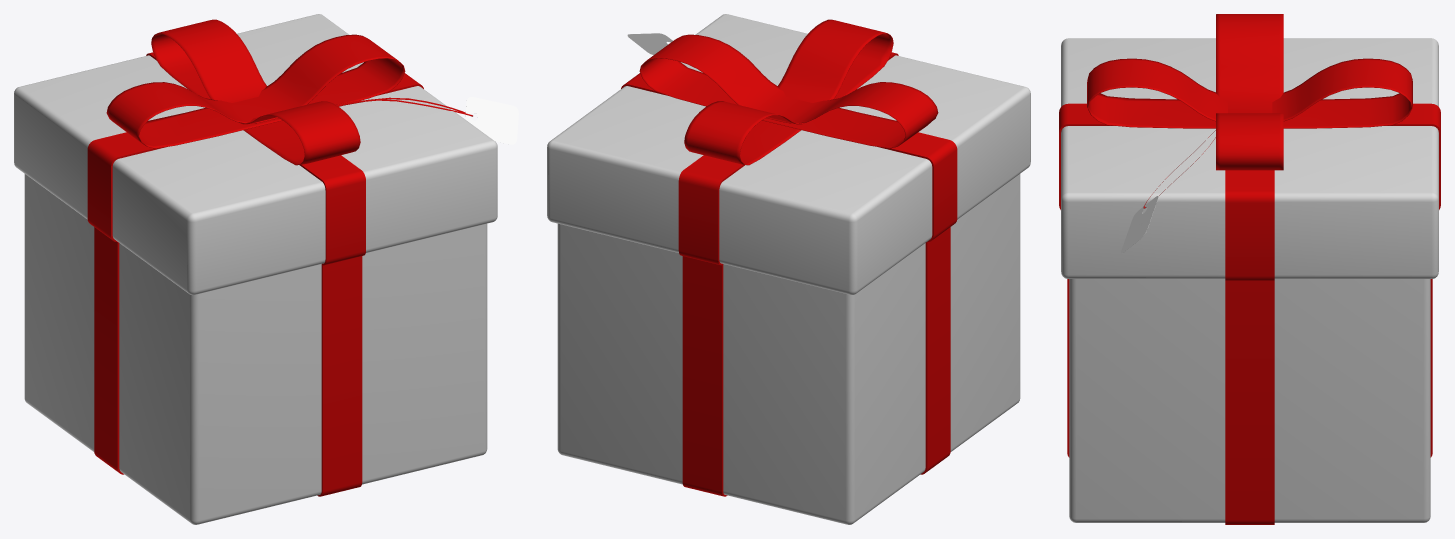
File: caja.FBX
The picture shows the model from 3 angles, left to right: view 1: azimuth 30°, elevation 25°; view 2: azimuth 150°, elevation 25°; view 3: azimuth 270°, elevation 25°; orthographic projection. The views are drawn at different scales.
Visible parts, largest first — view 1: ChamferBox02, ChamferBox03, Rectangle01; view 2: ChamferBox02, ChamferBox03, Rectangle01; view 3: ChamferBox02, ChamferBox03, Rectangle01.
Part boxes in pixels (<box>): ChamferBox02: <box>14,14,497,524</box>; ChamferBox03: <box>87,19,423,496</box>; Rectangle01: <box>465,97,518,144</box>; ChamferBox02: <box>547,14,1030,524</box>; ChamferBox03: <box>621,19,957,496</box>; Rectangle01: <box>627,33,672,54</box>; ChamferBox02: <box>1061,38,1438,522</box>; ChamferBox03: <box>1059,14,1440,524</box>; Rectangle01: <box>1121,196,1158,253</box>.
Size of the model in its own units: 55.57 by 51.73 by 47.22.
